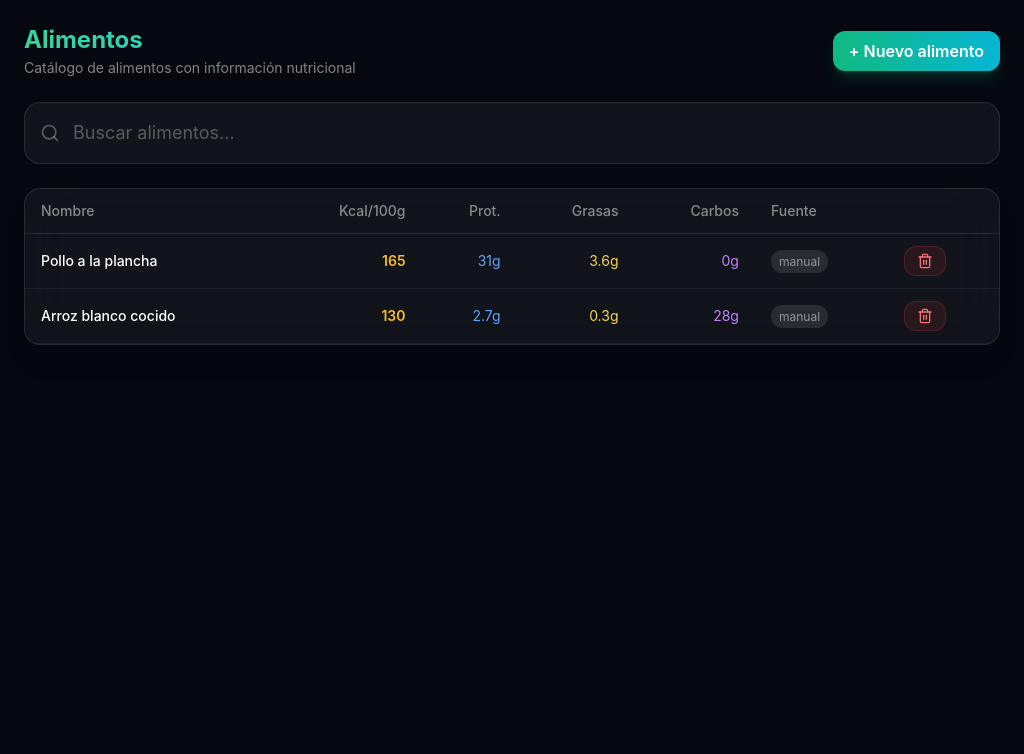
Test case: Alimentos › shows error message when food creation fails
The image size is (1024, 754).
Click the button "+ Nuevo alimento" at (916, 51), box [833,31,1000,71]
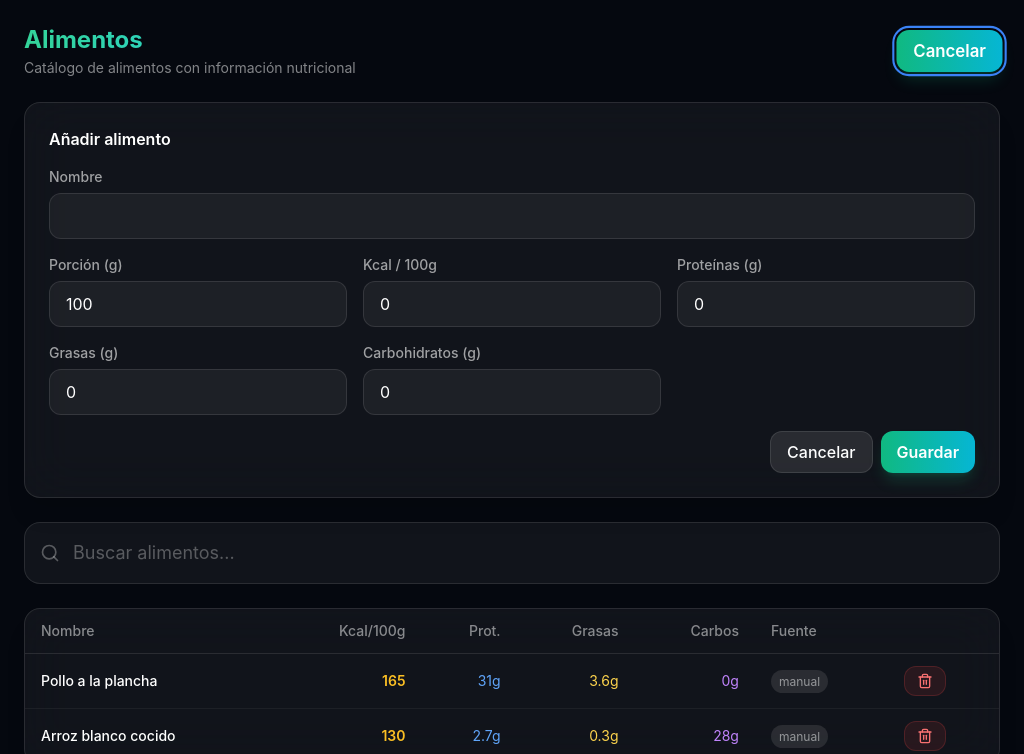
Result: the heading "Añadir alimento" is shown at [49,129,171,149]
Type "Test alimento" into the field labelled "Nombre" at (512, 216), box [49,193,975,239]
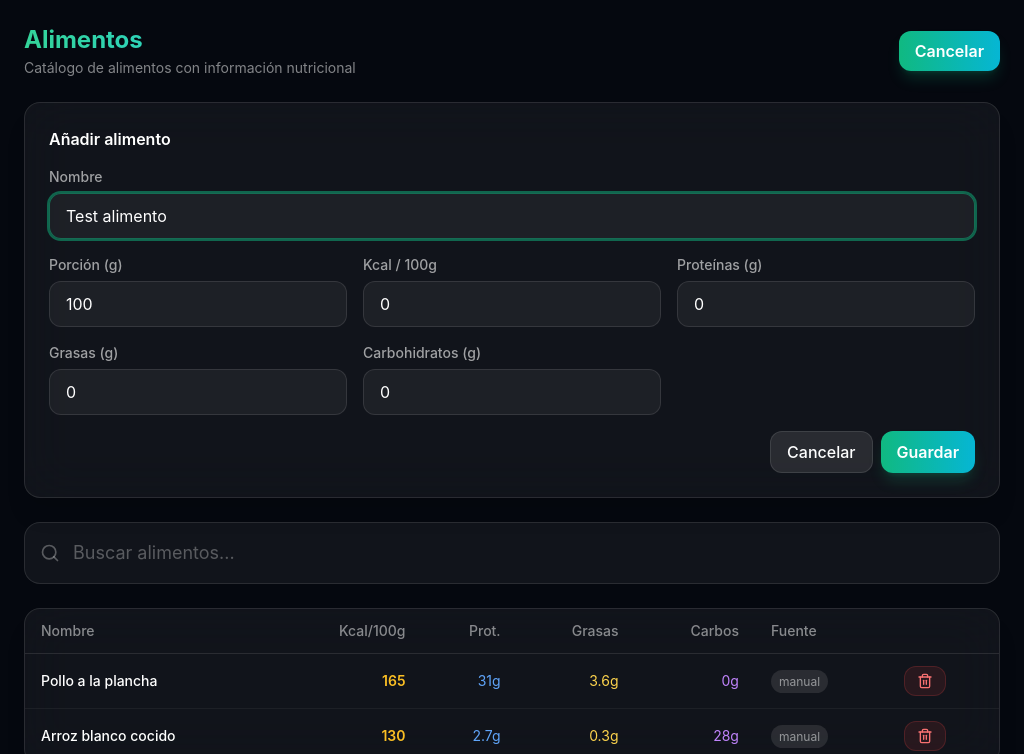
Click the button "Guardar" at (928, 452), box [880,431,975,473]
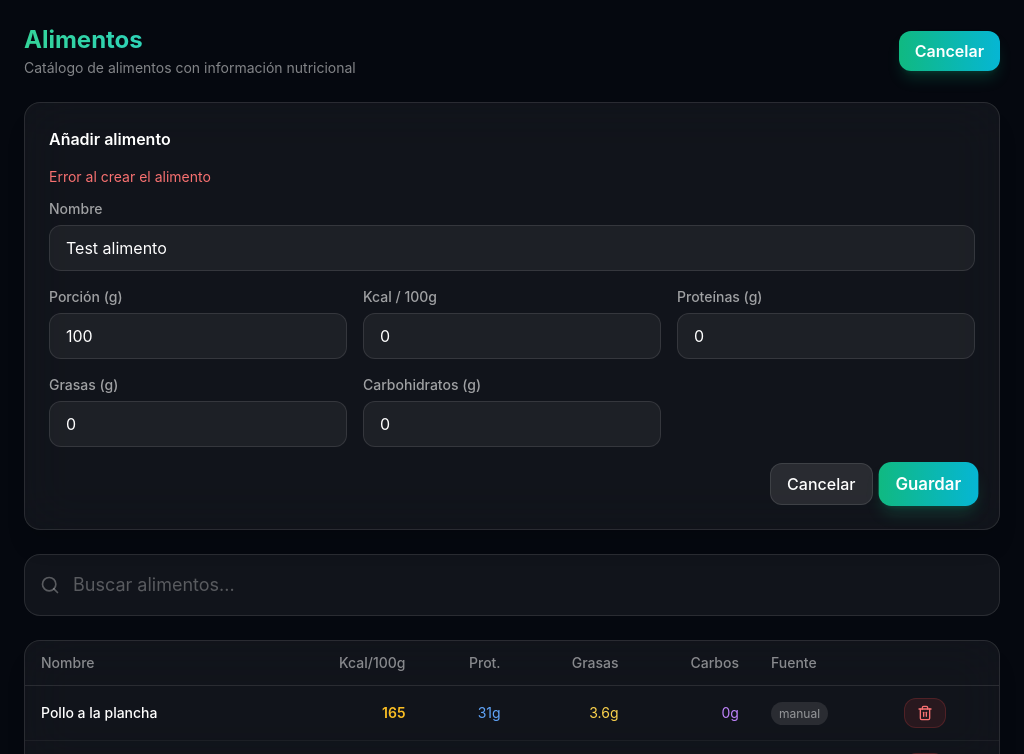
Result: the text "Error al crear el alimento" is shown at [49,168,211,185]
